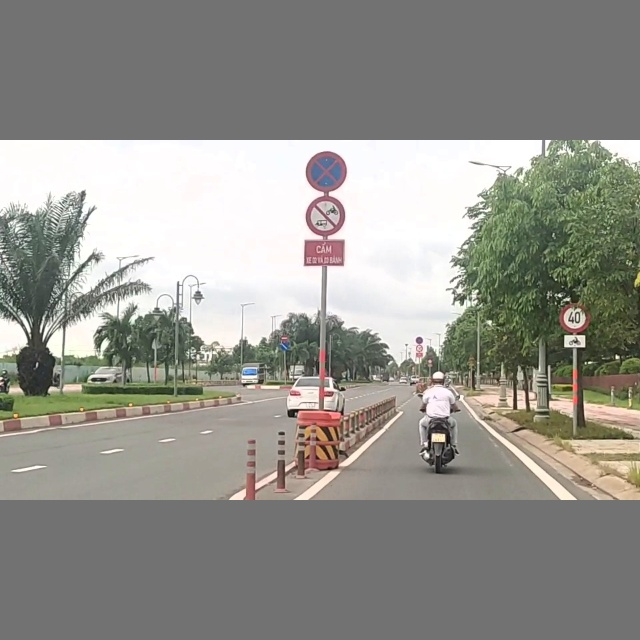P.111: (303, 196, 347, 239)
P.127*40: (560, 304, 590, 333)
P.130: (303, 149, 347, 194)
S.505a*Xe may: (561, 334, 588, 350)
